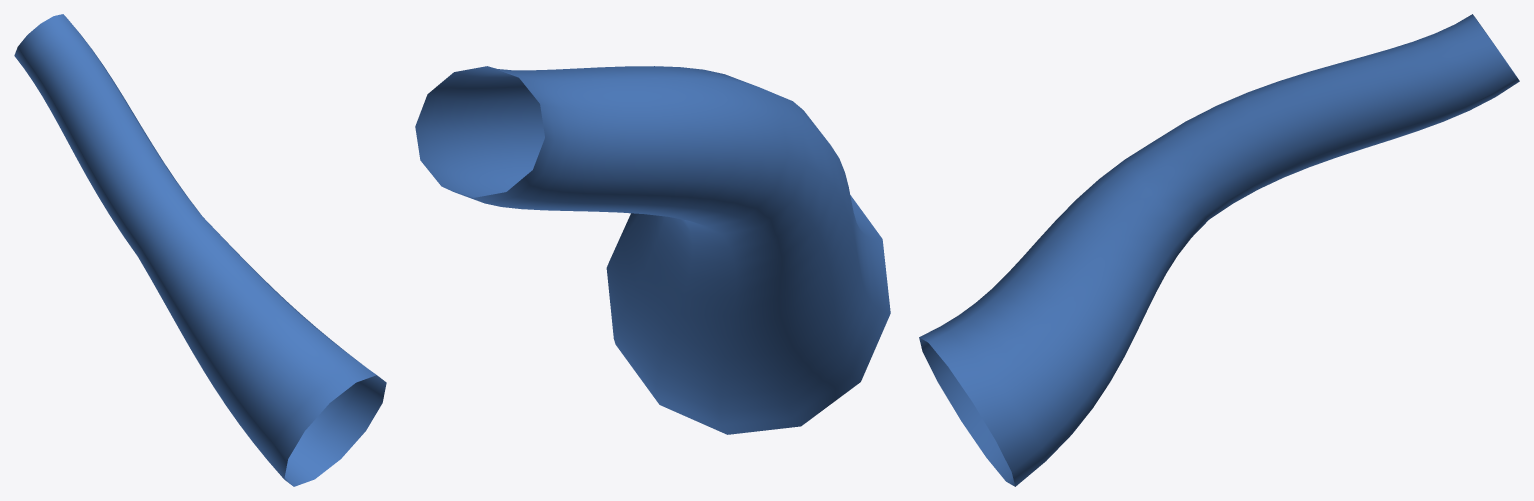
The picture shows the model from 3 angles, left to right: view 1: azimuth 30°, elevation 25°; view 2: azimuth 150°, elevation 25°; view 3: azimuth 270°, elevation 25°; orthographic projection. The views are drawn at different scales.
Visible parts, largest first — view 1: 右侧髂内静脉; view 2: 右侧髂内静脉; view 3: 右侧髂内静脉.
Boxes of the visible parts, x1=… form: 右侧髂内静脉: x1=14, y1=14, x2=386, y2=486; 右侧髂内静脉: x1=415, y1=66, x2=890, y2=434; 右侧髂内静脉: x1=919, y1=14, x2=1519, y2=486.
Size of the model in its own units: 0.0267 by 0.0498 by 0.0646.
